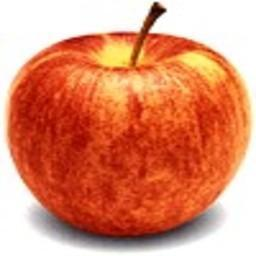apple: (6, 18, 252, 239)
